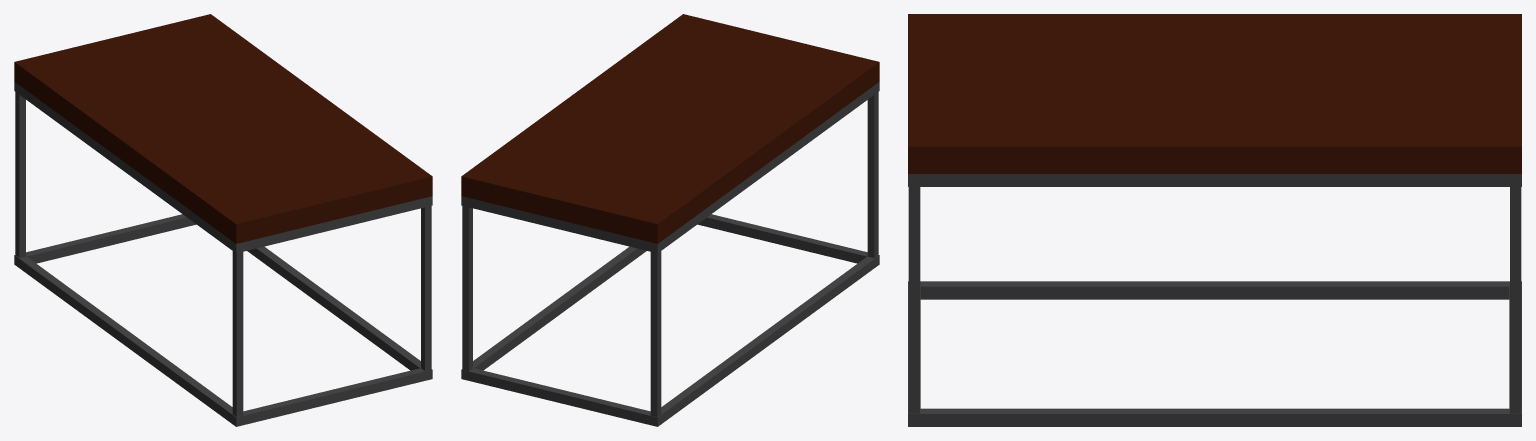
Rendered from Coffee table2.FBX.
The picture shows the model from 3 angles, left to right: view 1: azimuth 30°, elevation 25°; view 2: azimuth 150°, elevation 25°; view 3: azimuth 270°, elevation 25°; orthographic projection. The views are drawn at different scales.
Parts seen in each view (by area): view 1: Coffee Table2; view 2: Coffee Table2; view 3: Coffee Table2.
Part boxes in pixels (x1=…): Coffee Table2: x1=14, y1=14, x2=432, y2=426; Coffee Table2: x1=461, y1=14, x2=879, y2=426; Coffee Table2: x1=908, y1=14, x2=1521, y2=426.
Size of the model in its own units: 47.02 by 46.39 by 92.02.
